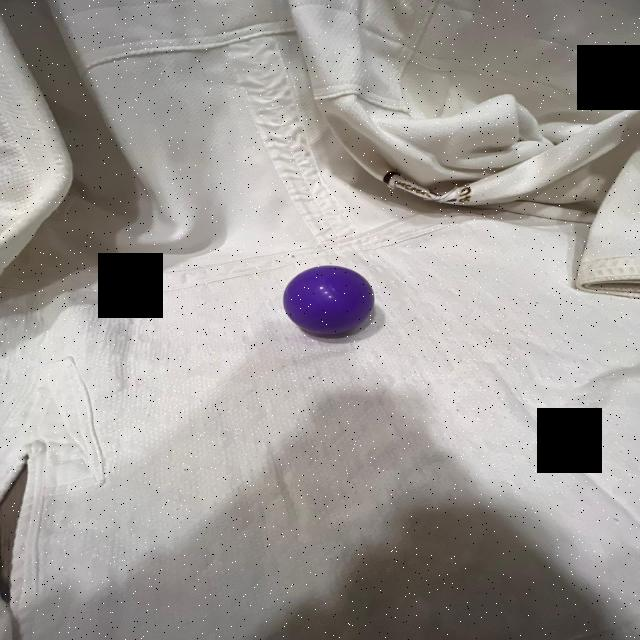ball: (279, 262, 382, 340)
